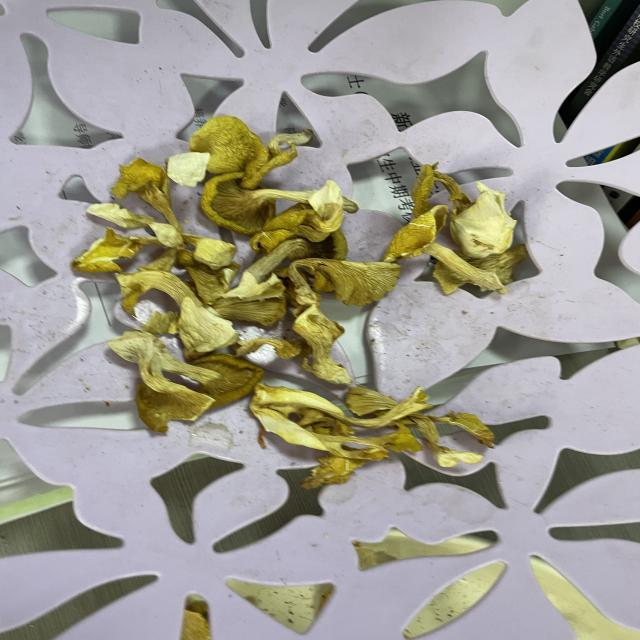Pleurotus citrinopileatus: (212, 111, 640, 424), (155, 223, 310, 355), (221, 87, 395, 194)
